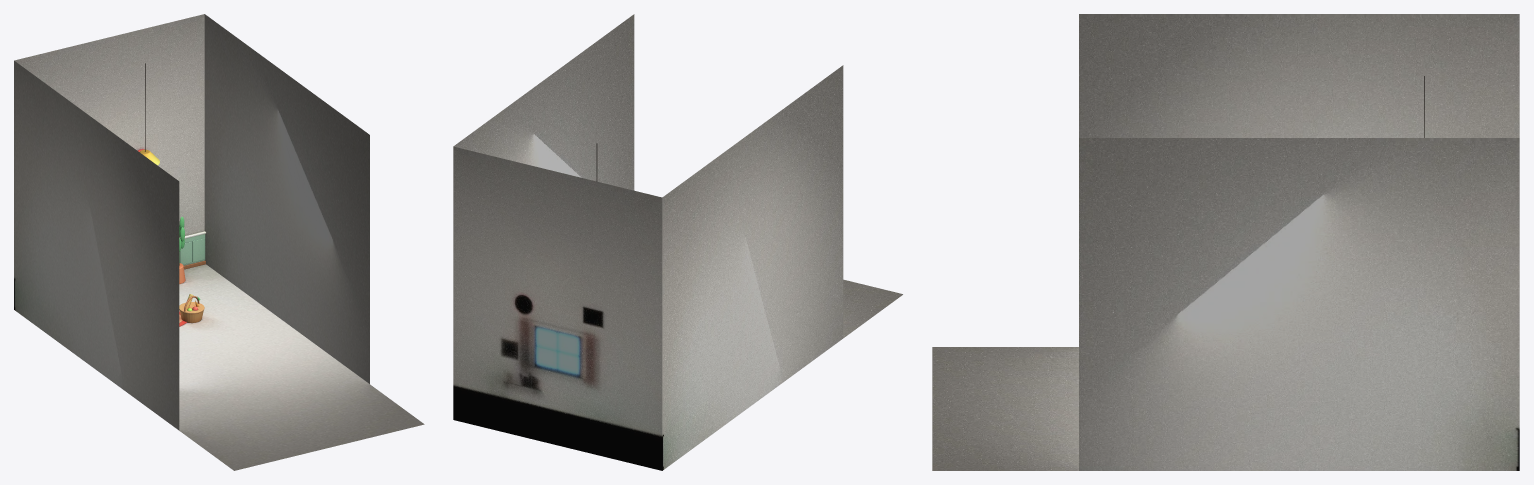
The model's file is room.glb.
3 renders of one model, left to right at view 1: azimuth 30°, elevation 25°; view 2: azimuth 150°, elevation 25°; view 3: azimuth 270°, elevation 25°, orthographic. The views are drawn at different scales.
Visible parts, largest first — view 1: Walls, Floor, Decor, Basket; view 2: Walls, Floor; view 3: Walls, Floor.
Boxes of the visible parts, x1,y1,x2,y2 form: Walls: (14,14,369,430); Floor: (179,264,424,470); Decor: (179,231,206,269); Basket: (179,294,204,323); Walls: (453,14,843,470); Floor: (843,279,902,337); Walls: (1079,14,1519,470); Floor: (932,347,1078,470).
Bounding box in the file's own units: 8 × 10.02 × 16.
3 materials, 2 textured.
